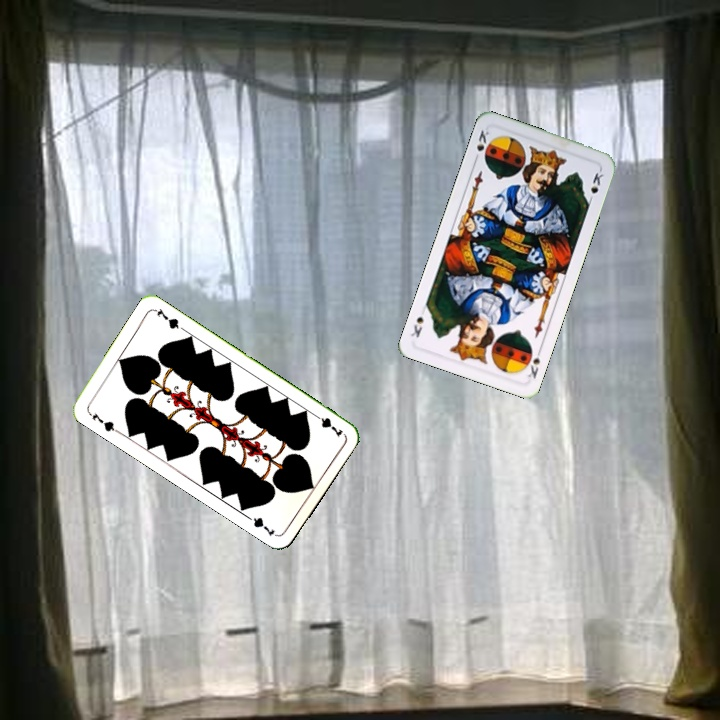G7: (309, 409, 346, 440), (85, 408, 121, 435)
SK: (520, 343, 544, 381), (470, 126, 492, 164)
